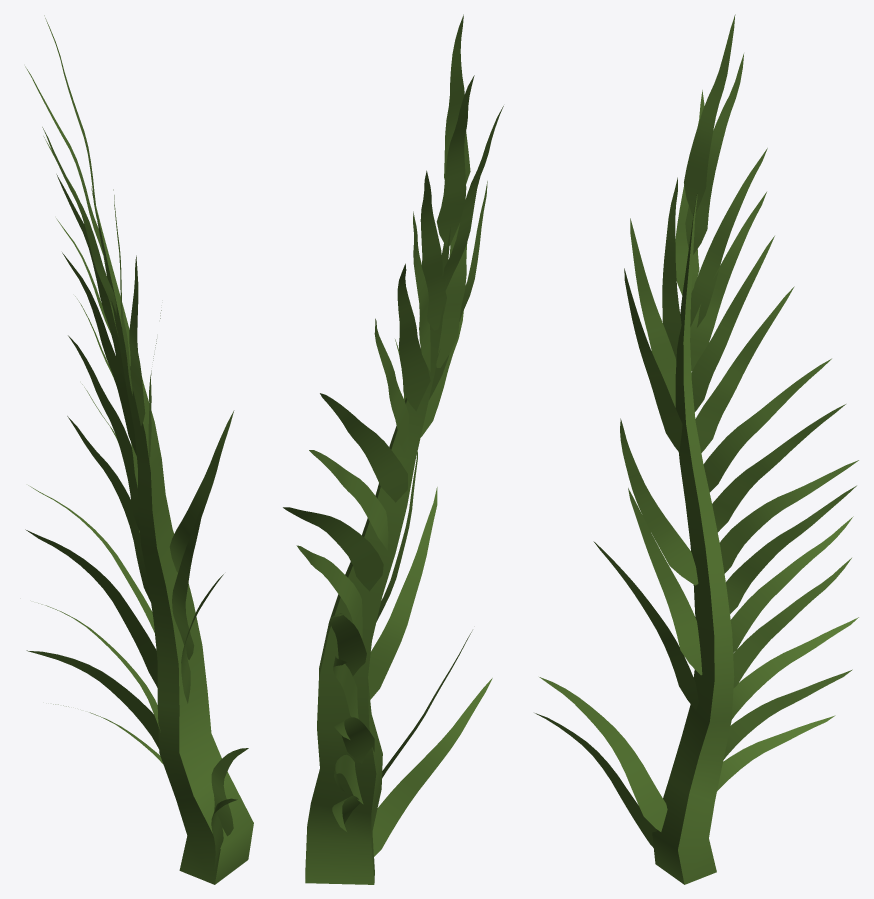
Rendered from plant_swamp_kelp_floor_A.fbx.
3 renders of one model, left to right at view 1: azimuth 30°, elevation 25°; view 2: azimuth 150°, elevation 25°; view 3: azimuth 270°, elevation 25°, orthographic. The views are drawn at different scales.
Visible parts, largest first — view 1: plant_swamp_kelp_floor_A; view 2: plant_swamp_kelp_floor_A; view 3: plant_swamp_kelp_floor_A.
Boxes of the visible parts, <box> form: plant_swamp_kelp_floor_A: <box>25,15,253,884</box>; plant_swamp_kelp_floor_A: <box>283,14,503,884</box>; plant_swamp_kelp_floor_A: <box>535,14,858,884</box>.
Size of the model in its own units: 62.19 by 260 by 96.96.
